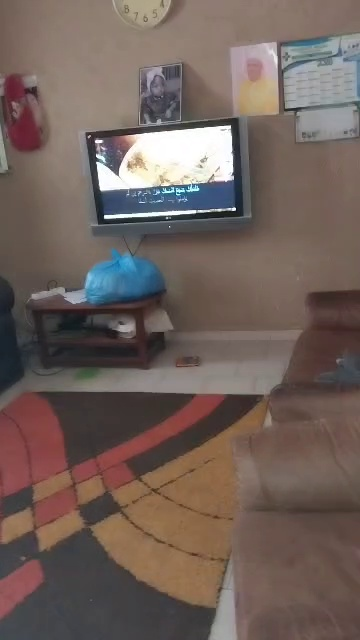television: (72, 114, 276, 245)
